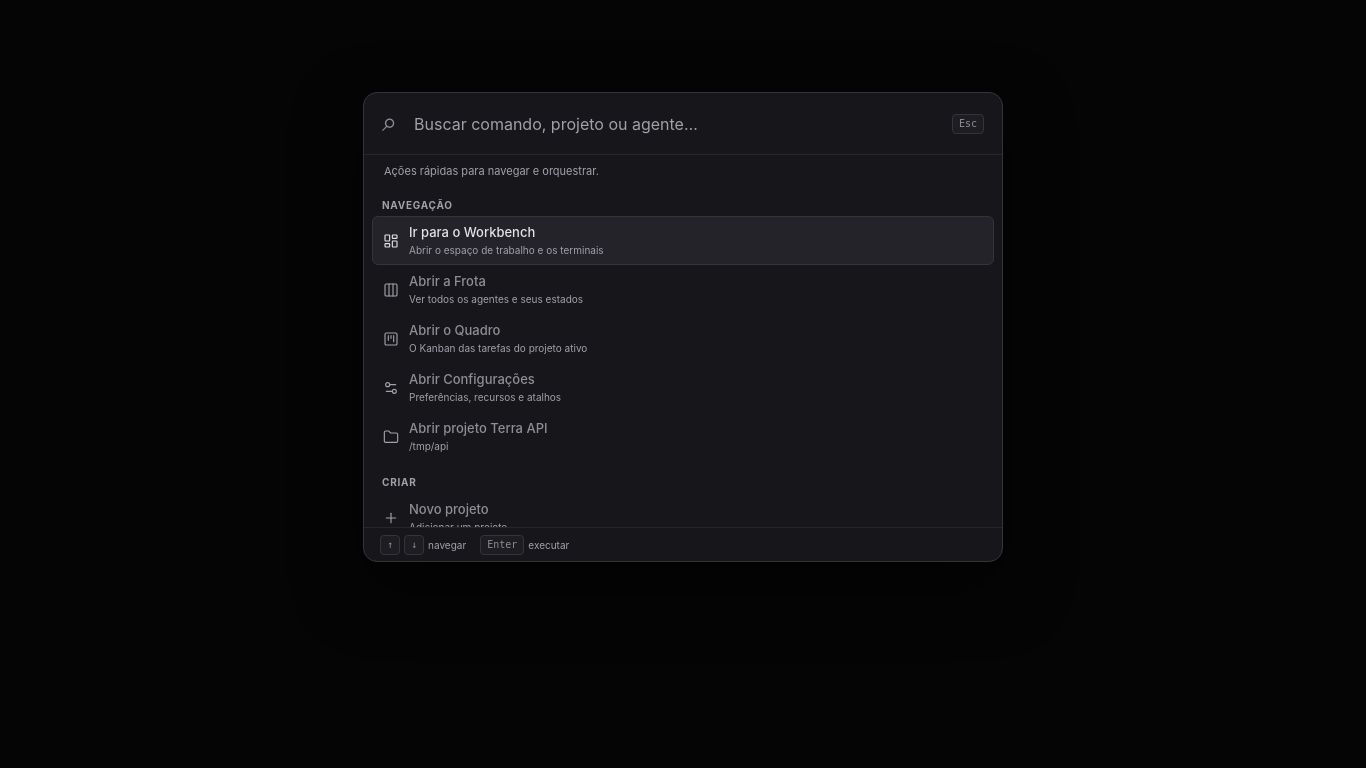
Scenario: CommandPalette outcomes › Given a query that matches nothing, when typing, then an empty message shows
The width and height of the screenshot is (1366, 768).
Type "xyzzy" into the dropdown. click: (677, 124)
box: [412,111,942,137]
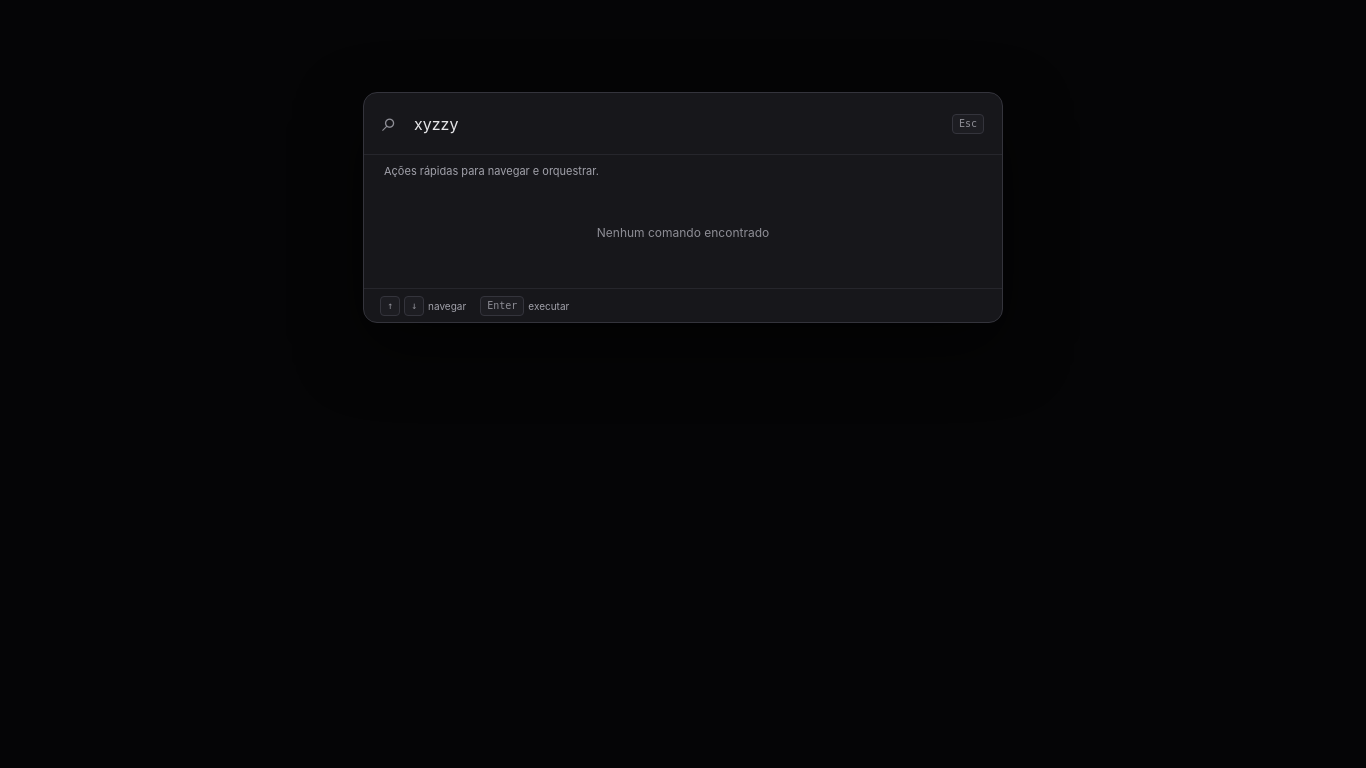
Result: the text "Nenhum comando encontrado" is shown at [597,225,769,240]
Result: the option is gone
